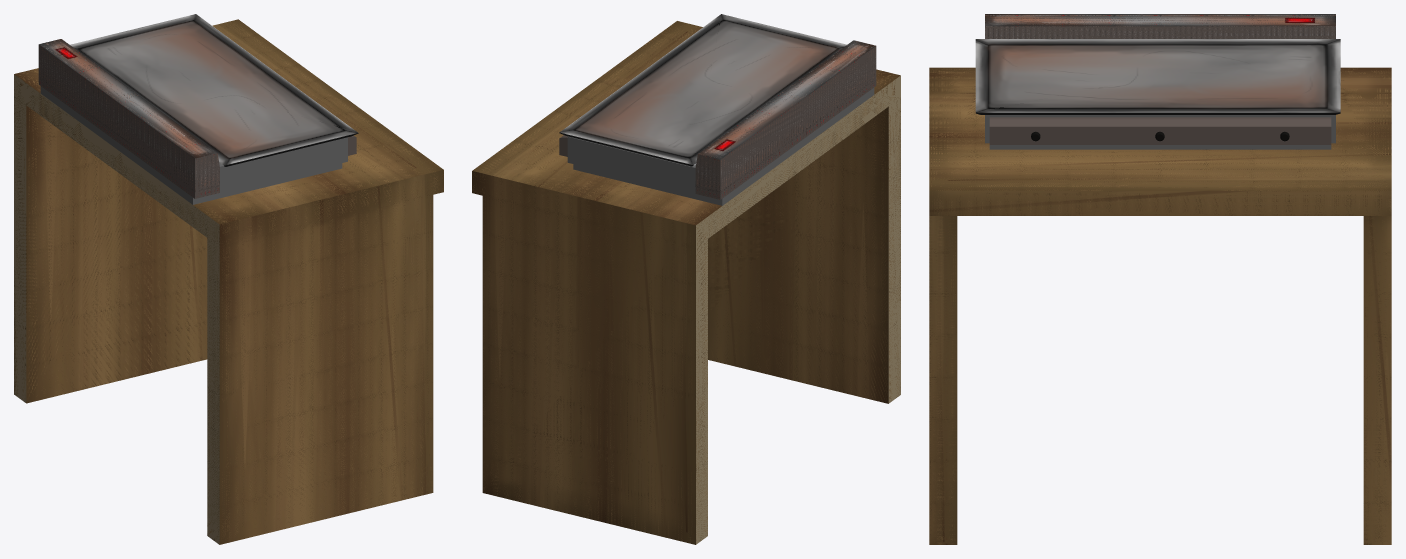
File: CHAPA.dae
3 renders of one model, left to right at view 1: azimuth 30°, elevation 25°; view 2: azimuth 150°, elevation 25°; view 3: azimuth 270°, elevation 25°, orthographic. The views are drawn at different scales.
Visible parts, largest first — view 1: Componente_5 (×3), instance_0, Componente_1 (×2); view 2: Componente_5 (×3), instance_0, Componente_1 (×2); view 3: Componente_5 (×2), instance_0, Componente_3, Componente_1 (×2).
Boxes of the visible parts, x1,y1,x2,y2 form: Componente_5 (×3): (14,19,443,544); instance_0: (70,14,358,166); Componente_1 (×2): (38,39,219,198); Componente_5 (×3): (472,21,900,544); instance_0: (559,14,846,166); Componente_1 (×2): (695,40,876,199); Componente_5 (×2): (929,67,1391,544); instance_0: (975,39,1340,114); Componente_3: (989,117,1331,144); Componente_1 (×2): (985,14,1335,38).
Bounding box in the file's own units: 24.8 × 39.37 × 38.91.
9 materials, 3 textured.
